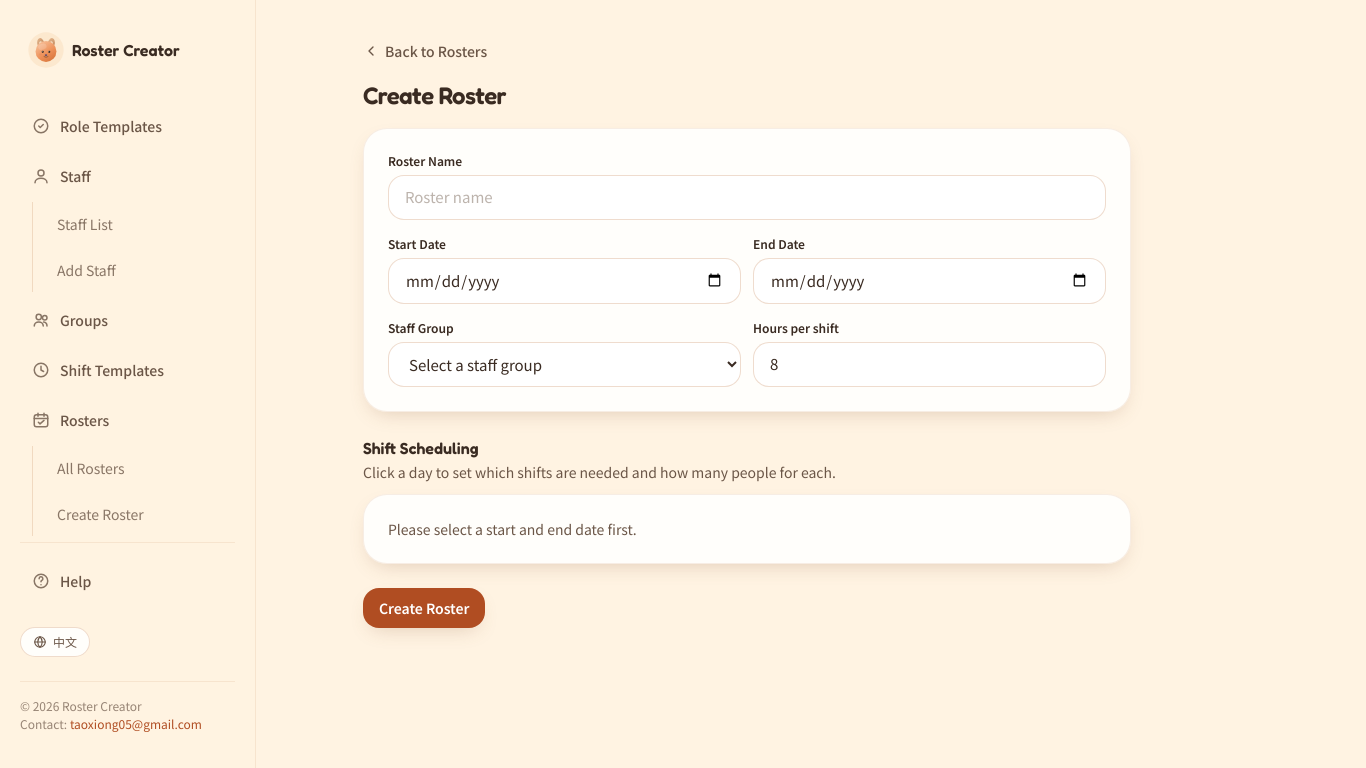
it: RosterCreatePage › paginates the calendar 7 days at a time
The image size is (1366, 768).
In the date field named "Start Date": (564, 281) [388,258,741,304], type "2026-08-01"
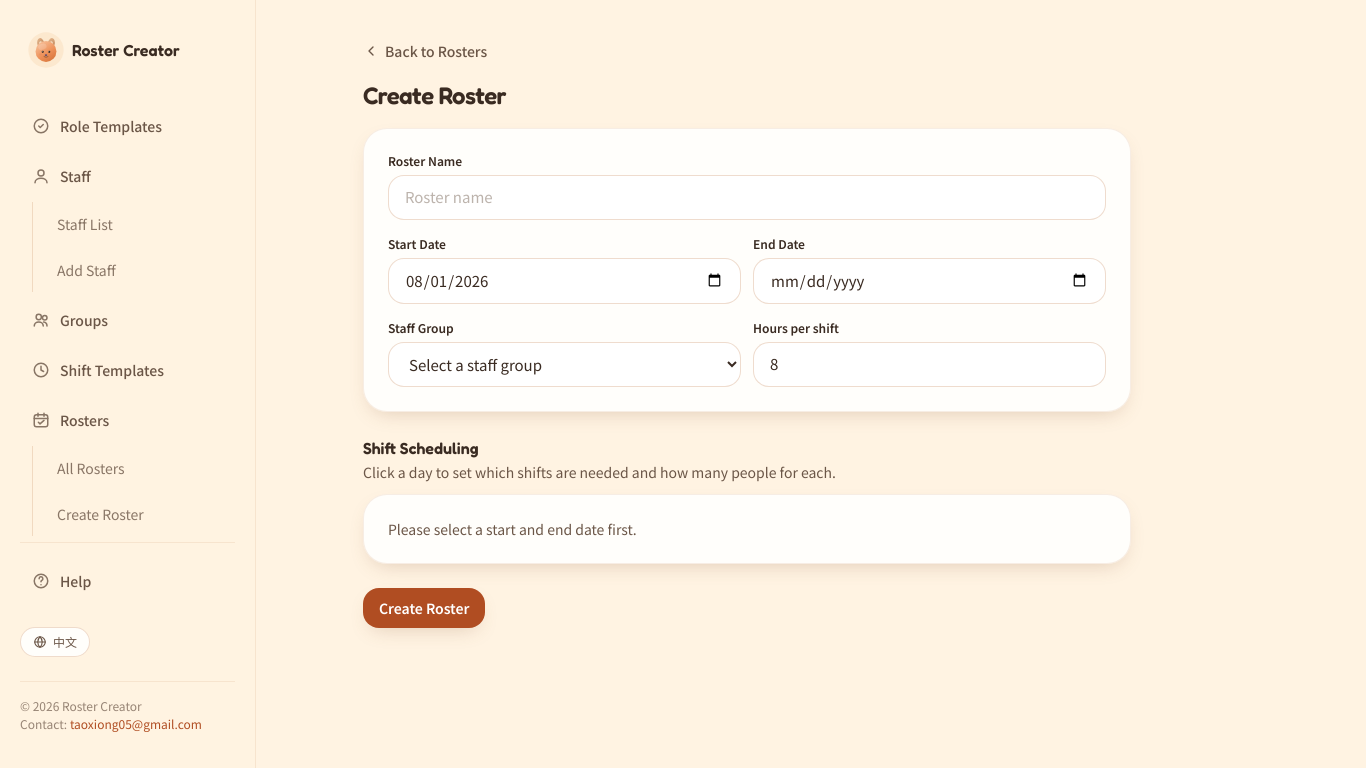
In the date field named "End Date": (930, 281) [753,258,1106,304], type "2026-08-10"
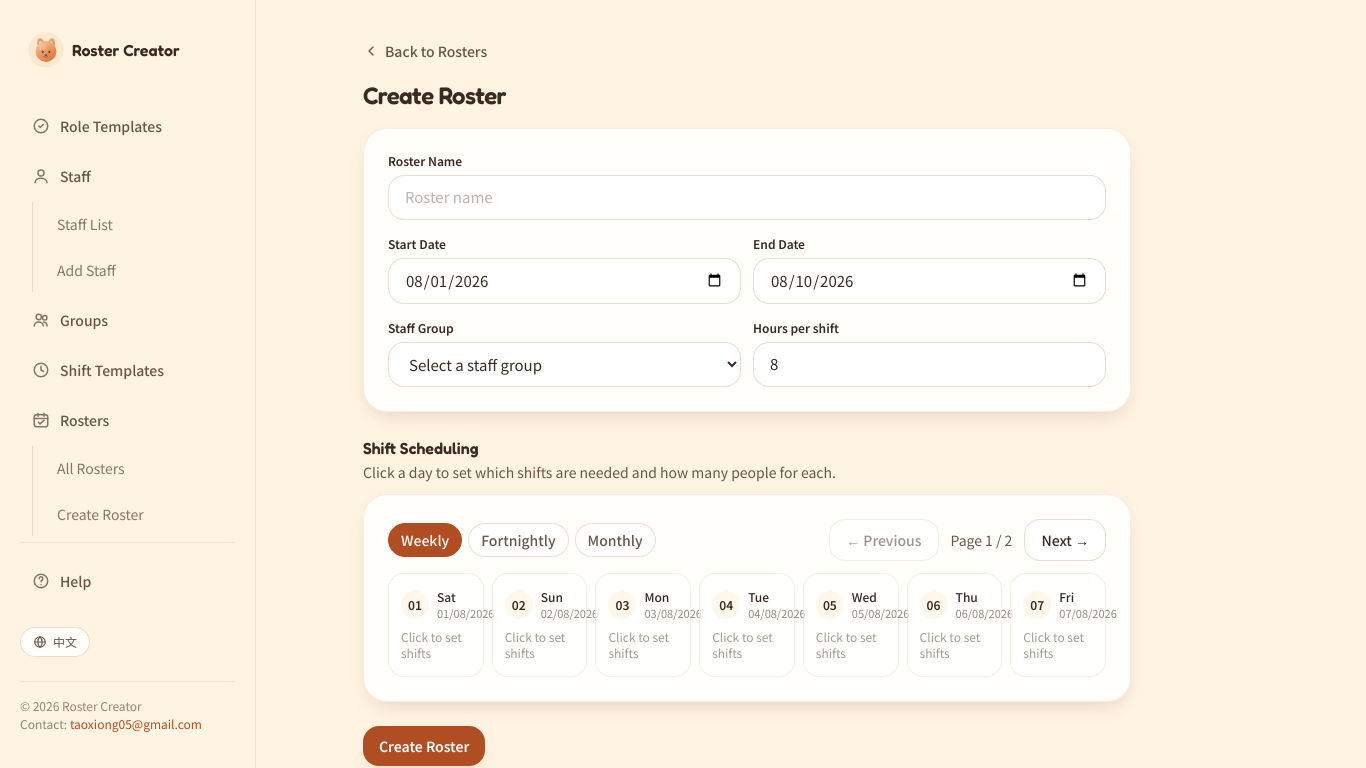
Expected: the button "08/08/2026" is not shown
Expected: the button "01 Sat 01/08/2026 Click to set shifts" is shown, [388,573,484,677]
Expected: the text "Page 1 / 2" is shown, [950,530,1012,550]
Click the button "Next →": (1065, 540) [1024,519,1106,561]
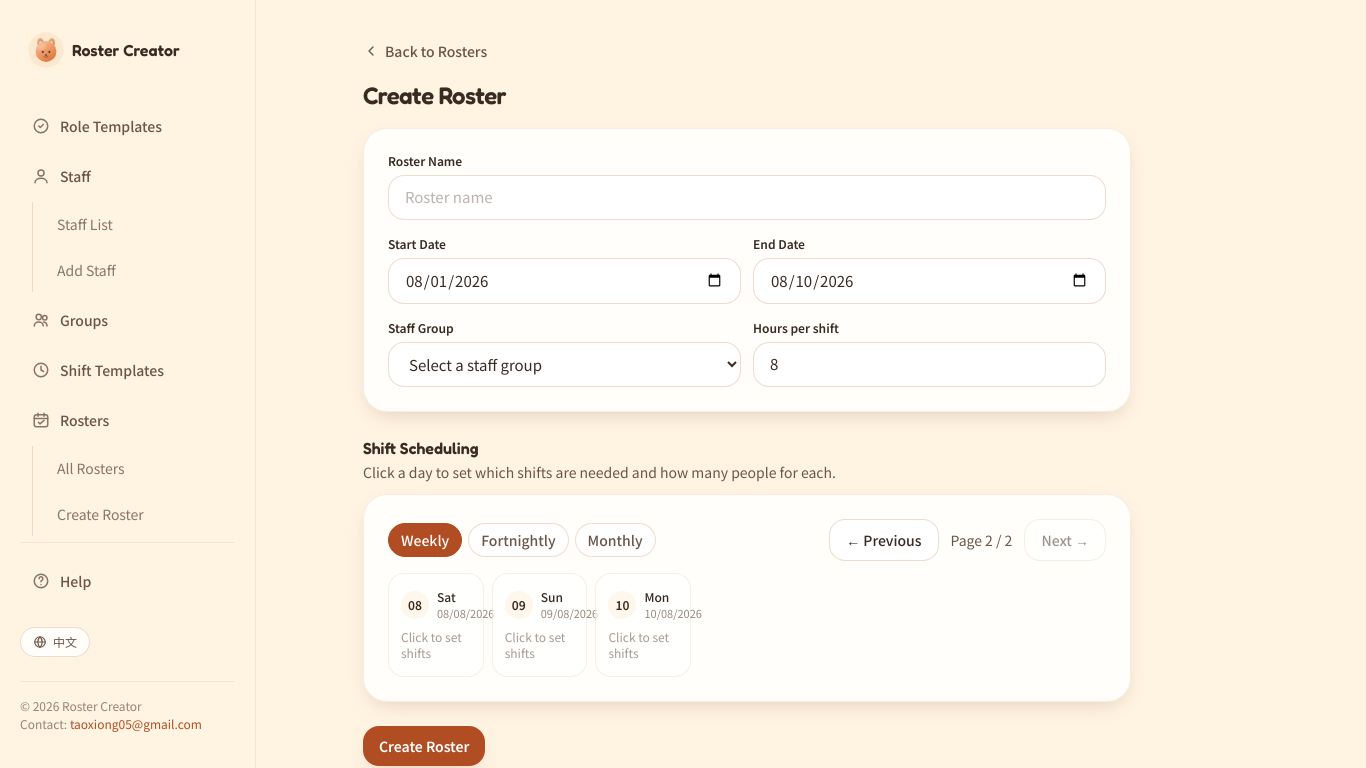
Expected: the button "01/08/2026" is gone
Expected: the button "08 Sat 08/08/2026 Click to set shifts" is shown, [388,573,484,677]
Expected: the text "Page 2 / 2" is shown, [950,530,1012,550]
